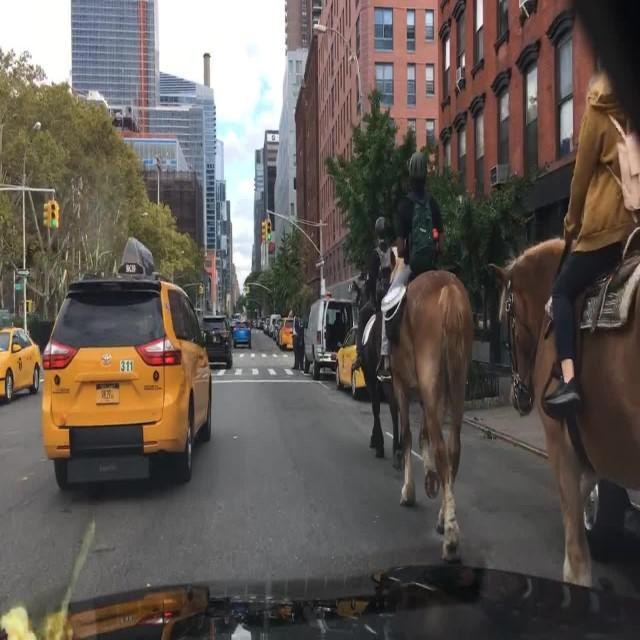normal: (41, 280, 215, 497), (335, 306, 392, 399), (0, 325, 42, 401), (199, 317, 234, 372), (276, 317, 297, 349)
